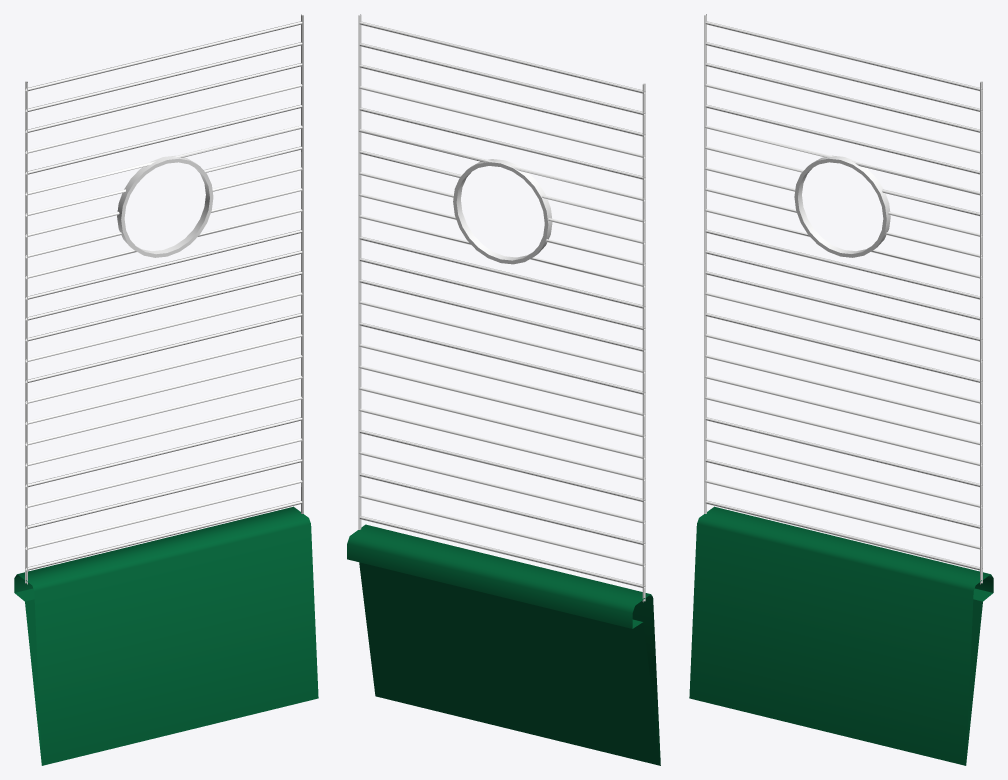
Rendered from Gabbia_muro_H_C.fbx.
The picture shows the model from 3 angles, left to right: view 1: azimuth 30°, elevation 25°; view 2: azimuth 150°, elevation 25°; view 3: azimuth 330°, elevation 25°; orthographic projection. The views are drawn at different scales.
Parts seen in each view (by area): view 1: mesh; view 2: mesh; view 3: mesh.
Part boxes in pixels (<box>): mesh: <box>14,14,318,765</box>; mesh: <box>347,14,660,765</box>; mesh: <box>689,14,993,765</box>.
Size of what is drawn, in the model's own units: 6001 by 13931 by 1030.
Materials: 3 (3 with a texture image).
